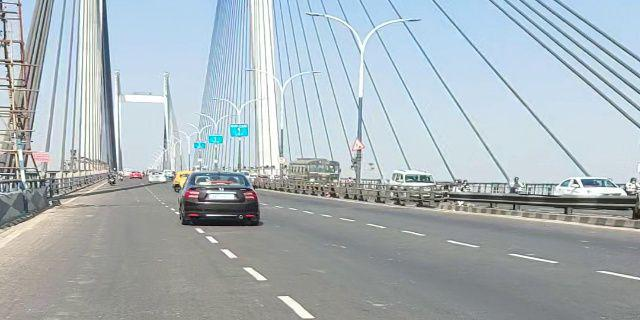Car: (177, 164, 266, 236), (143, 170, 168, 185)
